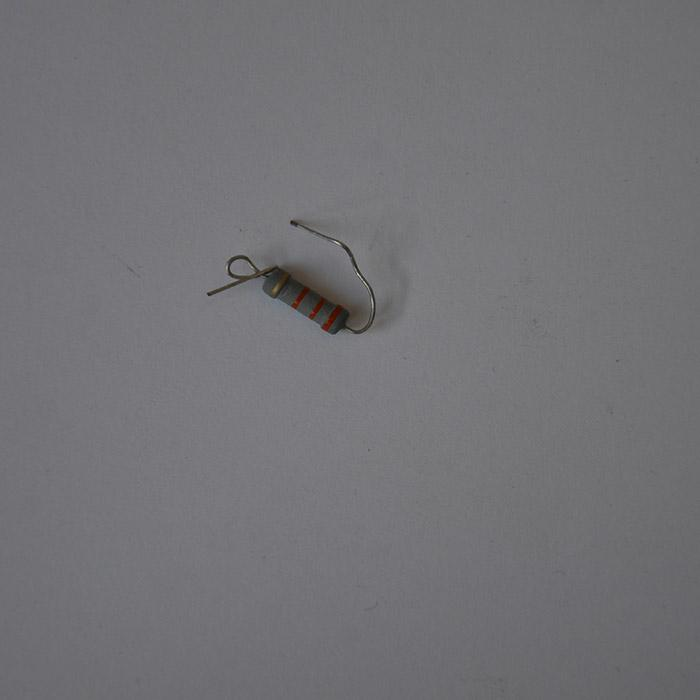resistor: (260, 265, 348, 335)
